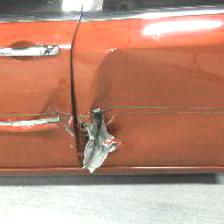door_dent: (47, 47, 151, 187)
